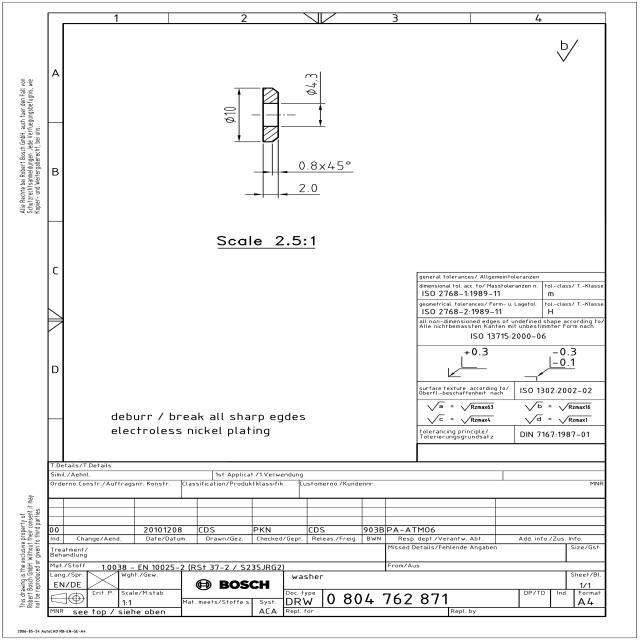dimension: (298, 160, 352, 172), (303, 71, 319, 96), (222, 106, 237, 123), (298, 183, 318, 193)
